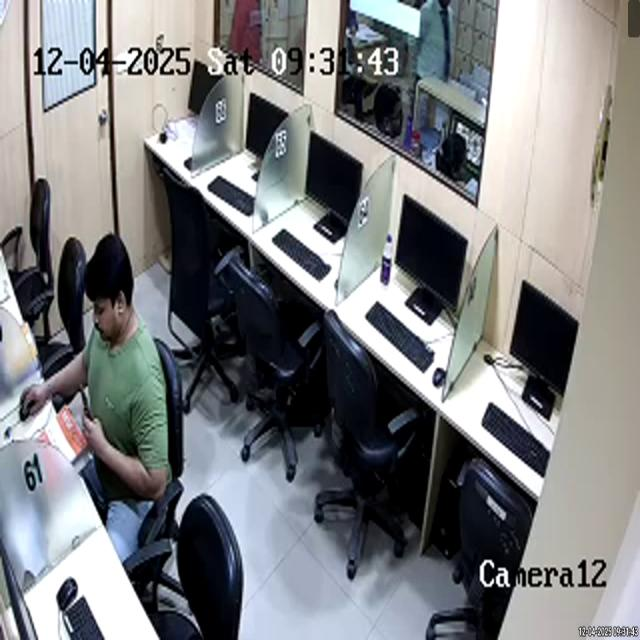phone: (77, 379, 94, 422)
